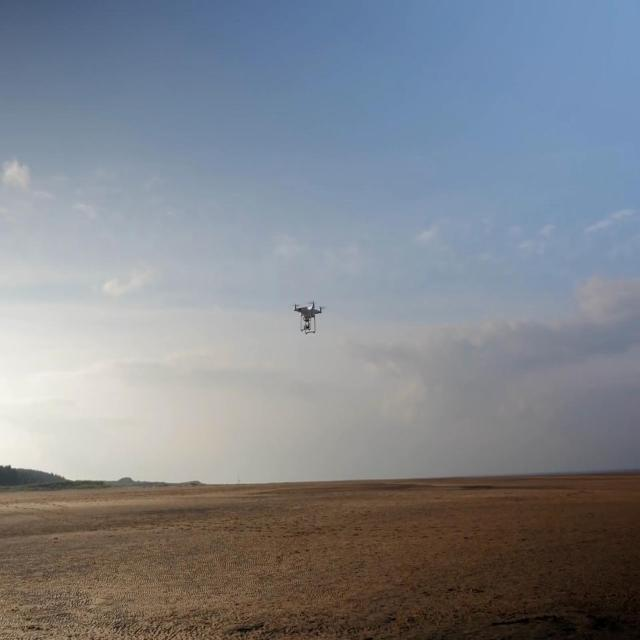drone: (291, 298, 325, 338)
